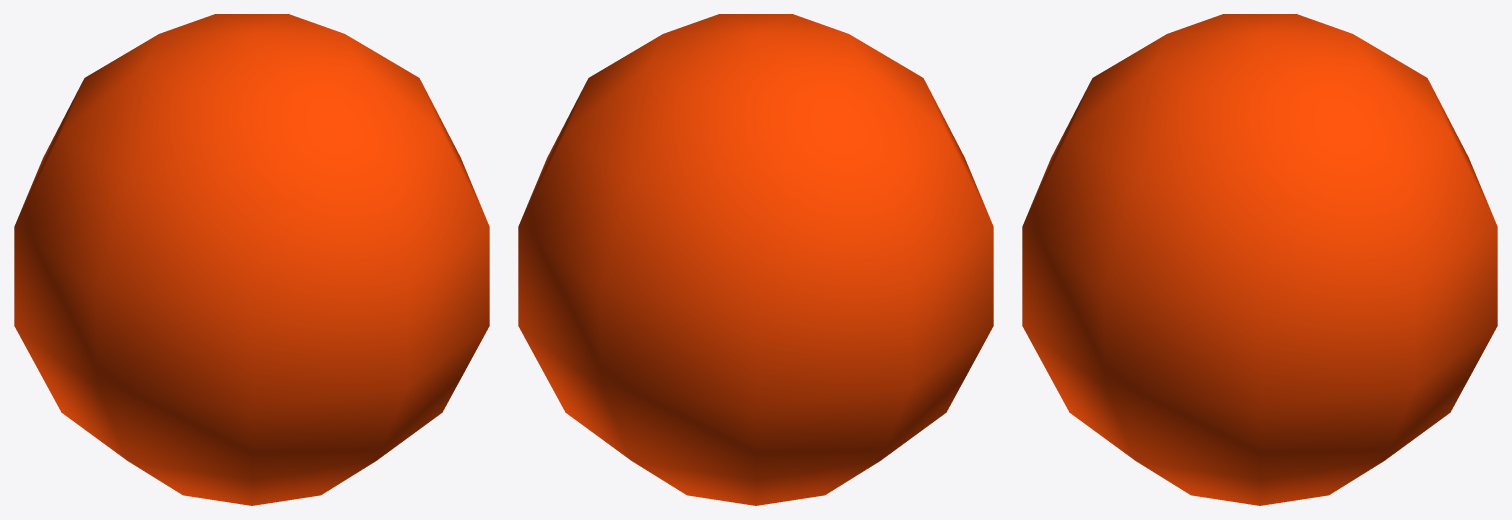
File: coalcrawler_stage1.obj
3 renders of one model, left to right at view 1: azimuth 30°, elevation 25°; view 2: azimuth 150°, elevation 25°; view 3: azimuth 270°, elevation 25°, orthographic.
Bounding box in the file's own units: 1.23 × 1.3 × 1.25.
